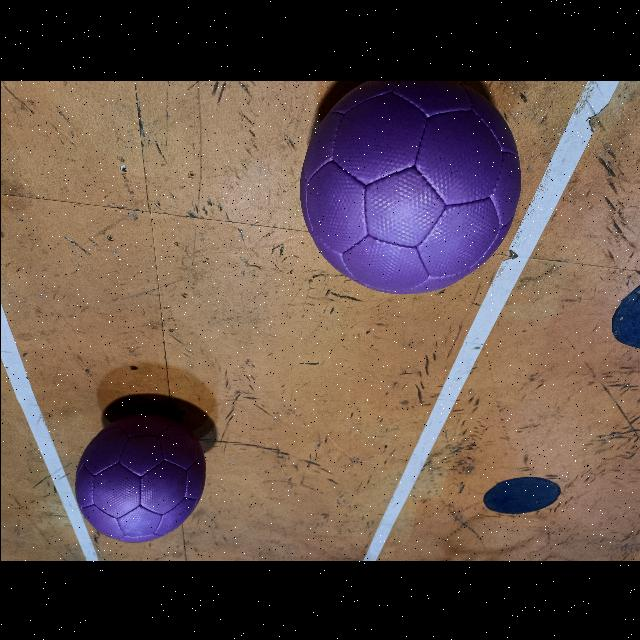P: (300, 80, 520, 294), (74, 412, 204, 542)
